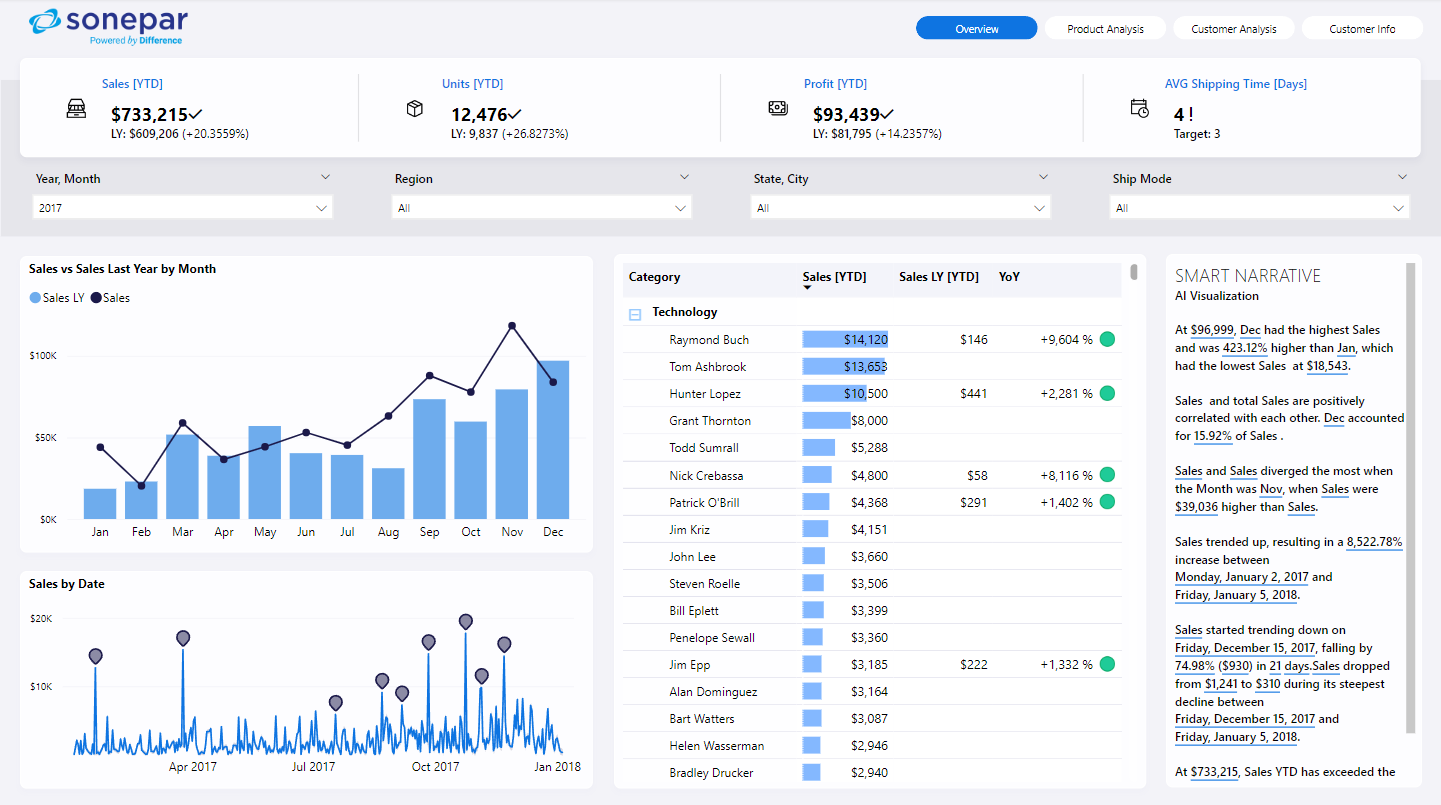

The dashboard page shown, as its layout file describes it:
{"tool":"powerbi","page":{"name":"Overview","canvas":[1280,720],"ordinal":0},"visuals":[{"type":"actionButton","title":"Back KPI","box":[18,53,1242,88.3],"z":0,"group":"g4"},{"type":"shape","box":[932.1,67.1,57,60.2],"z":0,"group":"g1"},{"type":"actionButton","title":"Background","box":[0,71.7,1280,140.4],"z":0,"group":"g2"},{"type":"slicer","fields":{"Values":["★Orders_Ship_Mode.★Ship_Mode"]},"box":[973,147.6,287,60],"z":0,"group":"g3"},{"type":"group","id":"g1","title":"Lines","box":[289.5,67.1,699.6,60.2],"z":500,"group":"g4"},{"type":"group","id":"g2","title":"Elements","box":[0,71.7,1280,140.4],"z":500},{"type":"shape","box":[610.8,67.1,57.6,60.2],"z":1000,"group":"g1"},{"type":"image","box":[996.7,83.6,27,27],"z":1000,"group":"g4"},{"type":"slicer","fields":{"Values":["Orders.State","Orders.City"]},"box":[655,147.6,287,60],"z":1000,"group":"g3"},{"type":"shape","box":[289.5,67.1,57.6,60.2],"z":2000,"group":"g1"},{"type":"image","box":[676.8,83.6,27,27],"z":2000,"group":"g4"},{"type":"slicer","fields":{"Values":["Orders.Region"]},"box":[337,147.6,287,60],"z":2000,"group":"g3"},{"type":"image","box":[355,83.6,27,27],"z":3000,"group":"g4"},{"type":"slicer","fields":{"Values":["Calendar.Year","Calendar.Month"]},"box":[18.4,147.6,287,60],"z":3000,"group":"g3"},{"type":"image","box":[54.2,83.6,27.4,27],"z":4000,"group":"g4"},{"type":"kpi","title":"AVG Shipping Time [Days]","fields":{"TrendLine":["Orders.Brand"],"Goal":["Mesures.TargetDate"],"Indicator":["Mesures.Avrg date"]},"box":[1028.3,67.2,229.8,59.9],"z":5000,"group":"g4"},{"type":"kpi","title":" Profit [YTD]","fields":{"Indicator":["Mesures.Total Profit YTD"],"TrendLine":["Orders.Brand"],"Goal":["Mesures.Total Profit YTD LY"]},"box":[707.8,67.2,244.8,59.9],"z":6000,"group":"g4"},{"type":"kpi","title":"Units [YTD] ","fields":{"Indicator":["Mesures.Total QT YTD"],"TrendLine":["Orders.Brand"],"Goal":["Mesures.Total QT YTD LY"]},"box":[386.6,67.2,244.8,59.9],"z":7000,"group":"g4"},{"type":"kpi","title":"Sales [YTD]","fields":{"Indicator":["Mesures.Total Sales YTD"],"TrendLine":["Orders.Brand"],"Goal":["Mesures.Total Sales YTD LY"]},"box":[85.6,67.5,229.8,59.3],"z":8000,"group":"g4"},{"type":"textbox","box":[1034,227.1,227,473.5],"z":8000},{"type":"lineChart","title":"Sales by Date","fields":{"Y":["Mesures.Total Sales"],"Category":["Orders.Ship Date"]},"box":[18,507.9,508,192.7],"z":8015},{"type":"pivotTable","fields":{"Rows":["★Orders_Category.★Category","Orders.Customer Name"],"Values":["Mesures.Total Sales YTD","Mesures.Total Sales YTD LY","Mesures.Sales YTD Var"]},"box":[544,227.1,472,474],"z":8031},{"type":"lineStackedColumnComboChart","title":"Sales vs Sales Last Year by Month ","fields":{"Category":["Calendar.Month Name"],"Y":["Mesures.Total Sales LY"],"Y2":["Mesures.Total Sales"]},"box":[18,228.5,508,262.9],"z":8062},{"type":"group","id":"g3","title":"Slicers","box":[18.4,147.6,1241.6,60],"z":8125},{"type":"group","id":"g4","title":"KPI","box":[18,53,1243,87.7],"z":8250},{"type":"pageNavigator","box":[812.1,16,451.2,21],"z":8500},{"type":"image","box":[17.7,4.4,156.9,43.4],"z":8501}]}

Visuals, with their boxes in screenshot pixels (x1, y1, x2, y2), scaled from the page's 1280x720 canvas onto the 1441x805 screenshot:
"Back KPI" actionButton: {"x1": 20, "y1": 59, "x2": 1418, "y2": 158}
shape: {"x1": 1049, "y1": 75, "x2": 1114, "y2": 142}
"Background" actionButton: {"x1": 0, "y1": 80, "x2": 1440, "y2": 237}
slicer - ★Orders_Ship_Mode.★Ship_Mode: {"x1": 1095, "y1": 165, "x2": 1418, "y2": 232}
"Lines" group: {"x1": 326, "y1": 75, "x2": 1114, "y2": 142}
"Elements" group: {"x1": 0, "y1": 80, "x2": 1440, "y2": 237}
shape: {"x1": 688, "y1": 75, "x2": 752, "y2": 142}
image: {"x1": 1122, "y1": 93, "x2": 1152, "y2": 124}
slicer - Orders.State x Orders.City: {"x1": 737, "y1": 165, "x2": 1060, "y2": 232}
shape: {"x1": 326, "y1": 75, "x2": 391, "y2": 142}
image: {"x1": 762, "y1": 93, "x2": 792, "y2": 124}
slicer - Orders.Region: {"x1": 379, "y1": 165, "x2": 702, "y2": 232}
image: {"x1": 400, "y1": 93, "x2": 430, "y2": 124}
slicer - Calendar.Year x Calendar.Month: {"x1": 21, "y1": 165, "x2": 344, "y2": 232}
image: {"x1": 61, "y1": 93, "x2": 92, "y2": 124}
"AVG Shipping Time [Days]" kpi: {"x1": 1158, "y1": 75, "x2": 1416, "y2": 142}
" Profit [YTD]" kpi: {"x1": 797, "y1": 75, "x2": 1072, "y2": 142}
"Units [YTD] " kpi: {"x1": 435, "y1": 75, "x2": 711, "y2": 142}
"Sales [YTD]" kpi: {"x1": 96, "y1": 75, "x2": 355, "y2": 142}
textbox: {"x1": 1164, "y1": 254, "x2": 1420, "y2": 783}
"Sales by Date" lineChart: {"x1": 20, "y1": 568, "x2": 592, "y2": 783}
pivotTable - ★Orders_Category.★Category x Orders.Customer Name: {"x1": 612, "y1": 254, "x2": 1144, "y2": 784}
"Sales vs Sales Last Year by Month " lineStackedColumnComboChart: {"x1": 20, "y1": 255, "x2": 592, "y2": 549}
"Slicers" group: {"x1": 21, "y1": 165, "x2": 1418, "y2": 232}
"KPI" group: {"x1": 20, "y1": 59, "x2": 1420, "y2": 157}
pageNavigator: {"x1": 914, "y1": 18, "x2": 1422, "y2": 41}
image: {"x1": 20, "y1": 5, "x2": 197, "y2": 53}
